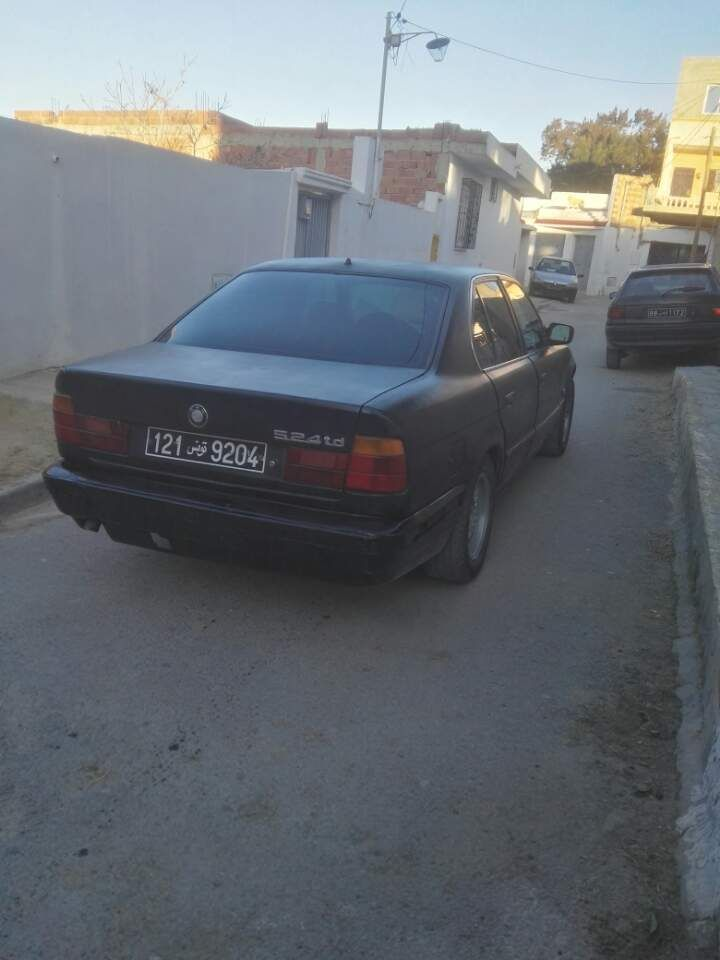LP: (142, 423, 266, 472)
